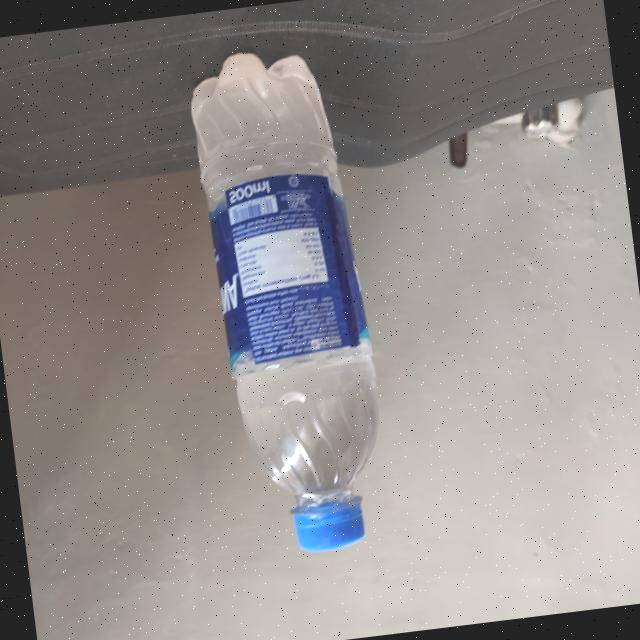bottle: (181, 46, 399, 562)
cap: (286, 486, 372, 556)
label: (208, 168, 370, 366)
